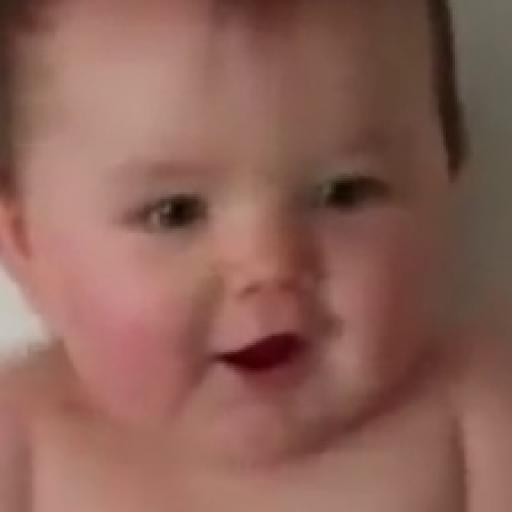Autism: (30, 22, 469, 477)
